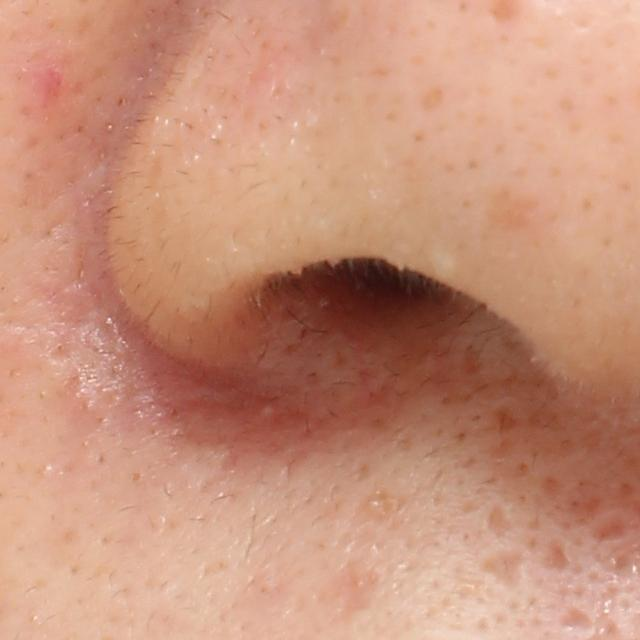atrophic_scar: (316, 561, 379, 629), (466, 547, 530, 592), (552, 605, 603, 637), (541, 533, 577, 577), (583, 510, 631, 542), (484, 501, 515, 540)
